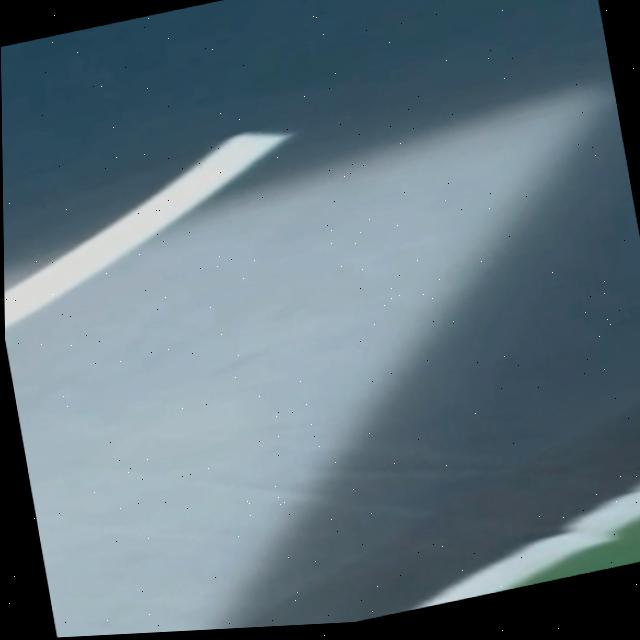center: (4, 133, 288, 327)
right: (412, 484, 640, 610)
